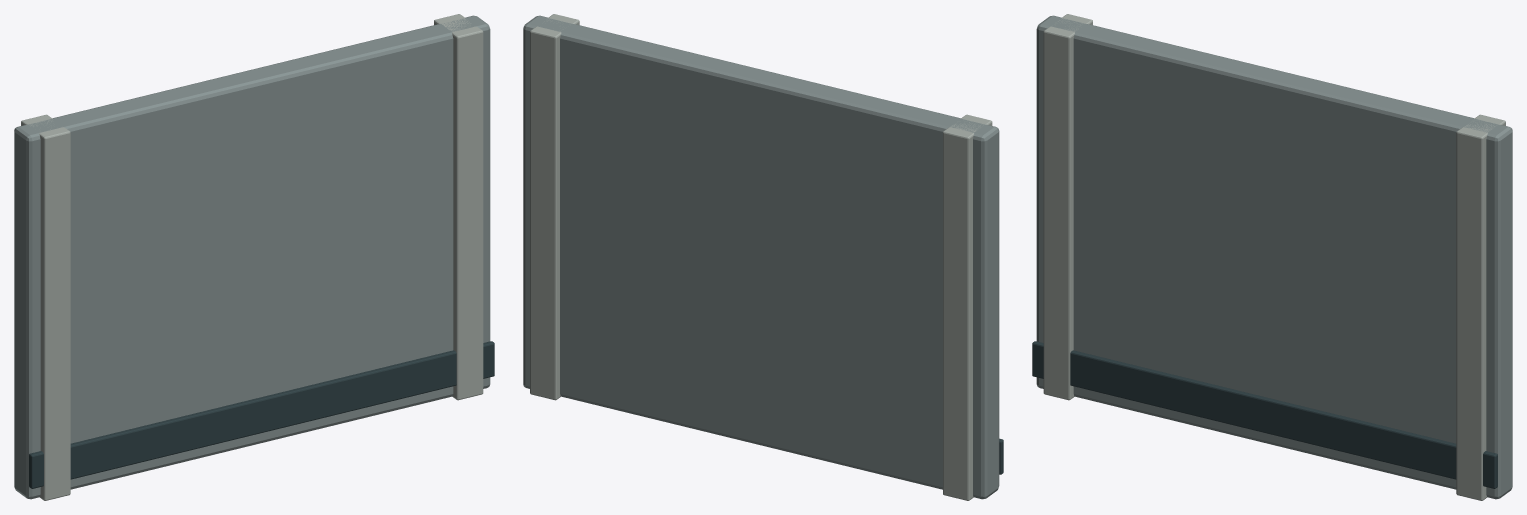
File: SM_ConcreteWall_400.fbx
3 views of the same model, side by side, from view 1: azimuth 30°, elevation 25°; view 2: azimuth 150°, elevation 25°; view 3: azimuth 330°, elevation 25° (orthographic).
Visible parts, largest first — view 1: SM_ConcreteWall_400; view 2: SM_ConcreteWall_400; view 3: SM_ConcreteWall_400.
Part boxes in pixels (x1=…): SM_ConcreteWall_400: x1=14, y1=14, x2=494, y2=500; SM_ConcreteWall_400: x1=523, y1=14, x2=1003, y2=500; SM_ConcreteWall_400: x1=1032, y1=14, x2=1512, y2=500.
Size of what is drawn, in the model's own units: 4 by 0.36 by 3.
